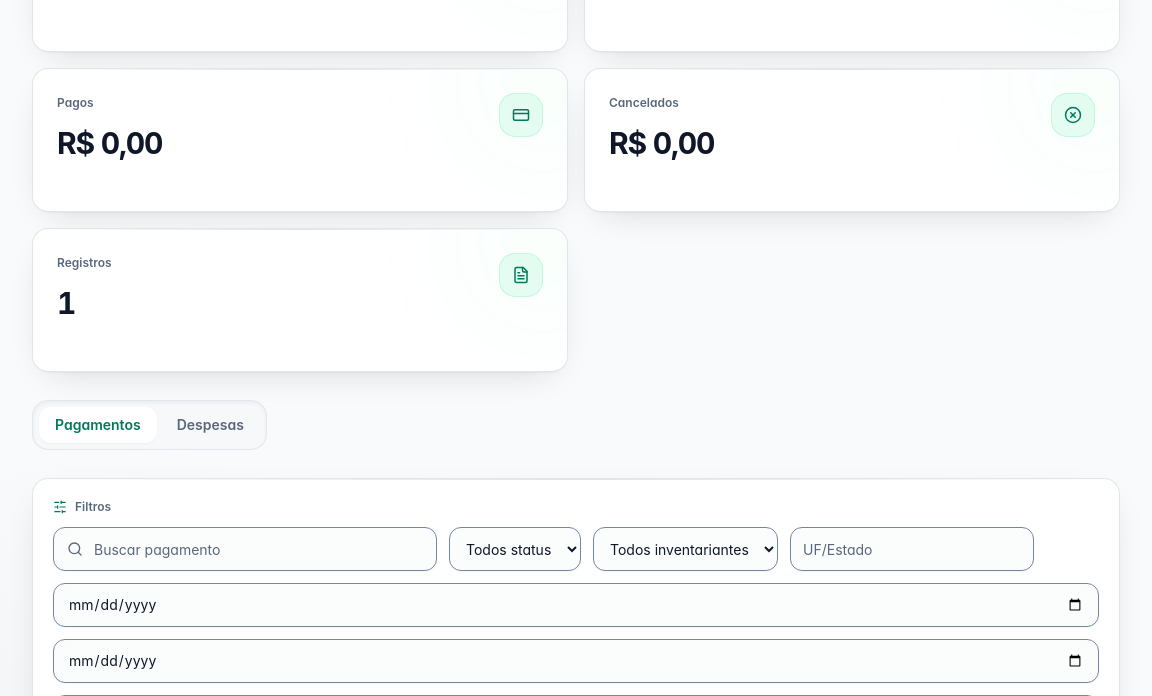
ProjectFinancePage › renderiza despesas em aba dedicada
(page scrolled)
Click the button "Despesas" at (210, 425), box left=161, top=407, right=260, bottom=443
(page scrolled)
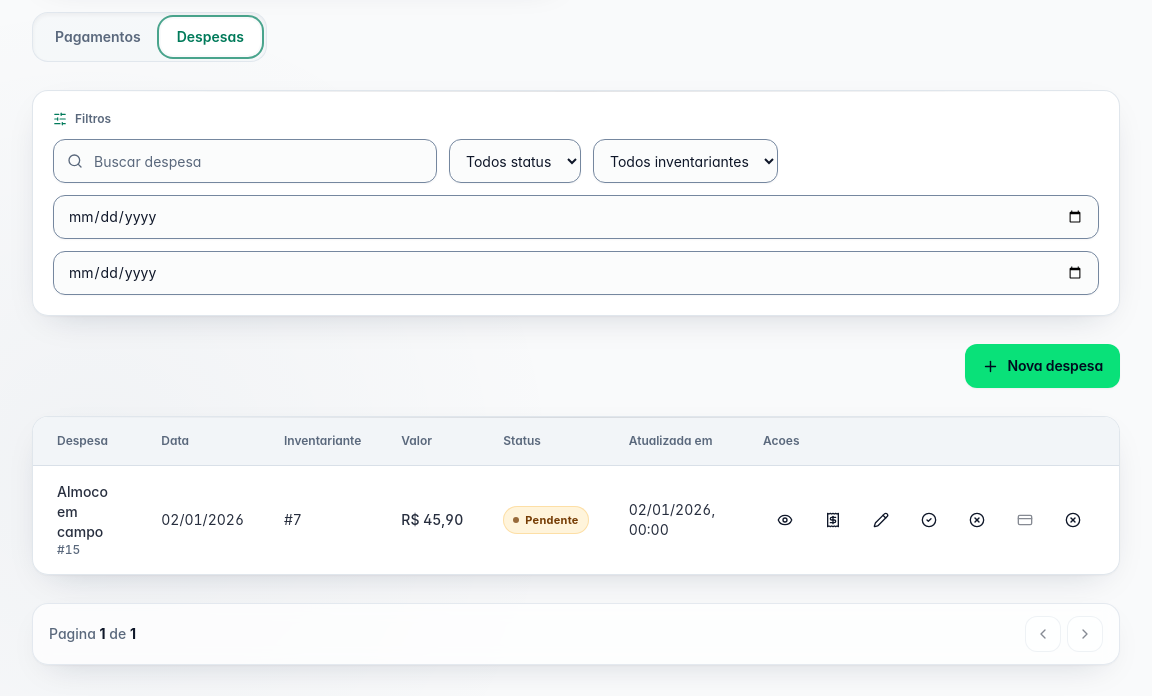
Now the text "Almoco em campo" is shown, box left=57, top=483, right=108, bottom=540
